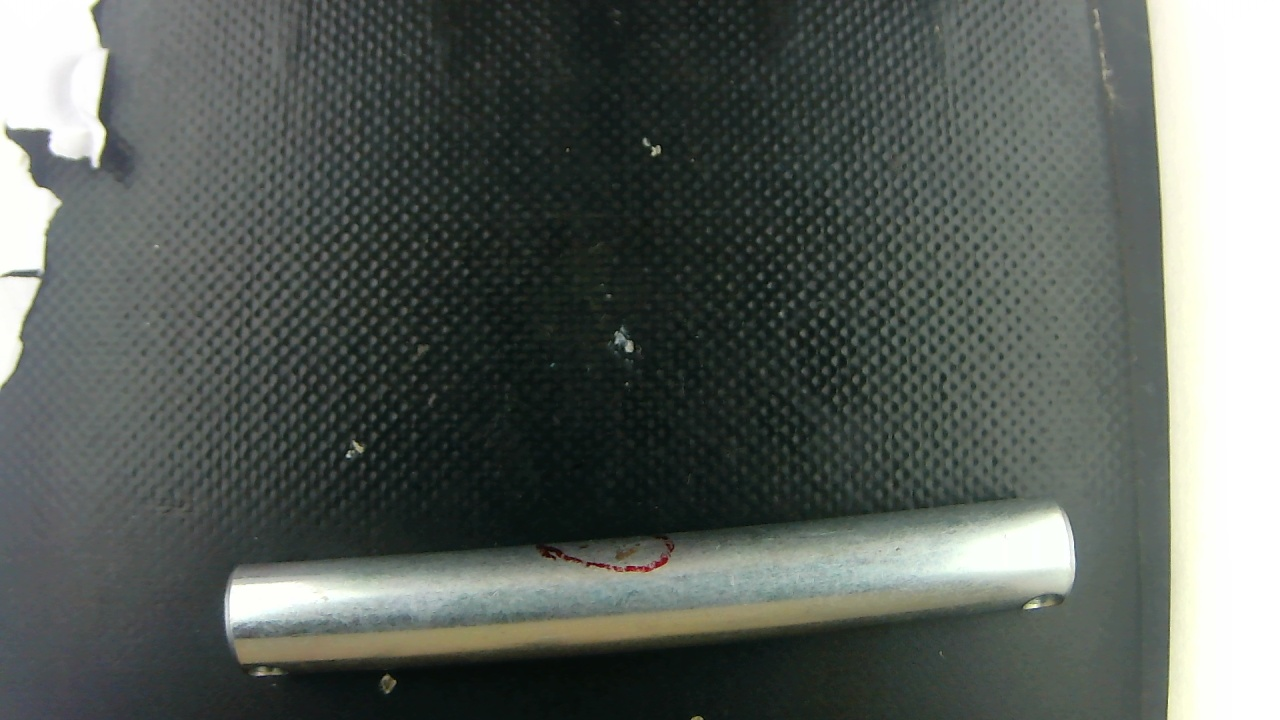rust_pin: (573, 532, 646, 564)
